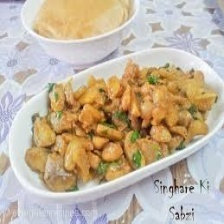sabzi: (25, 59, 218, 193)
